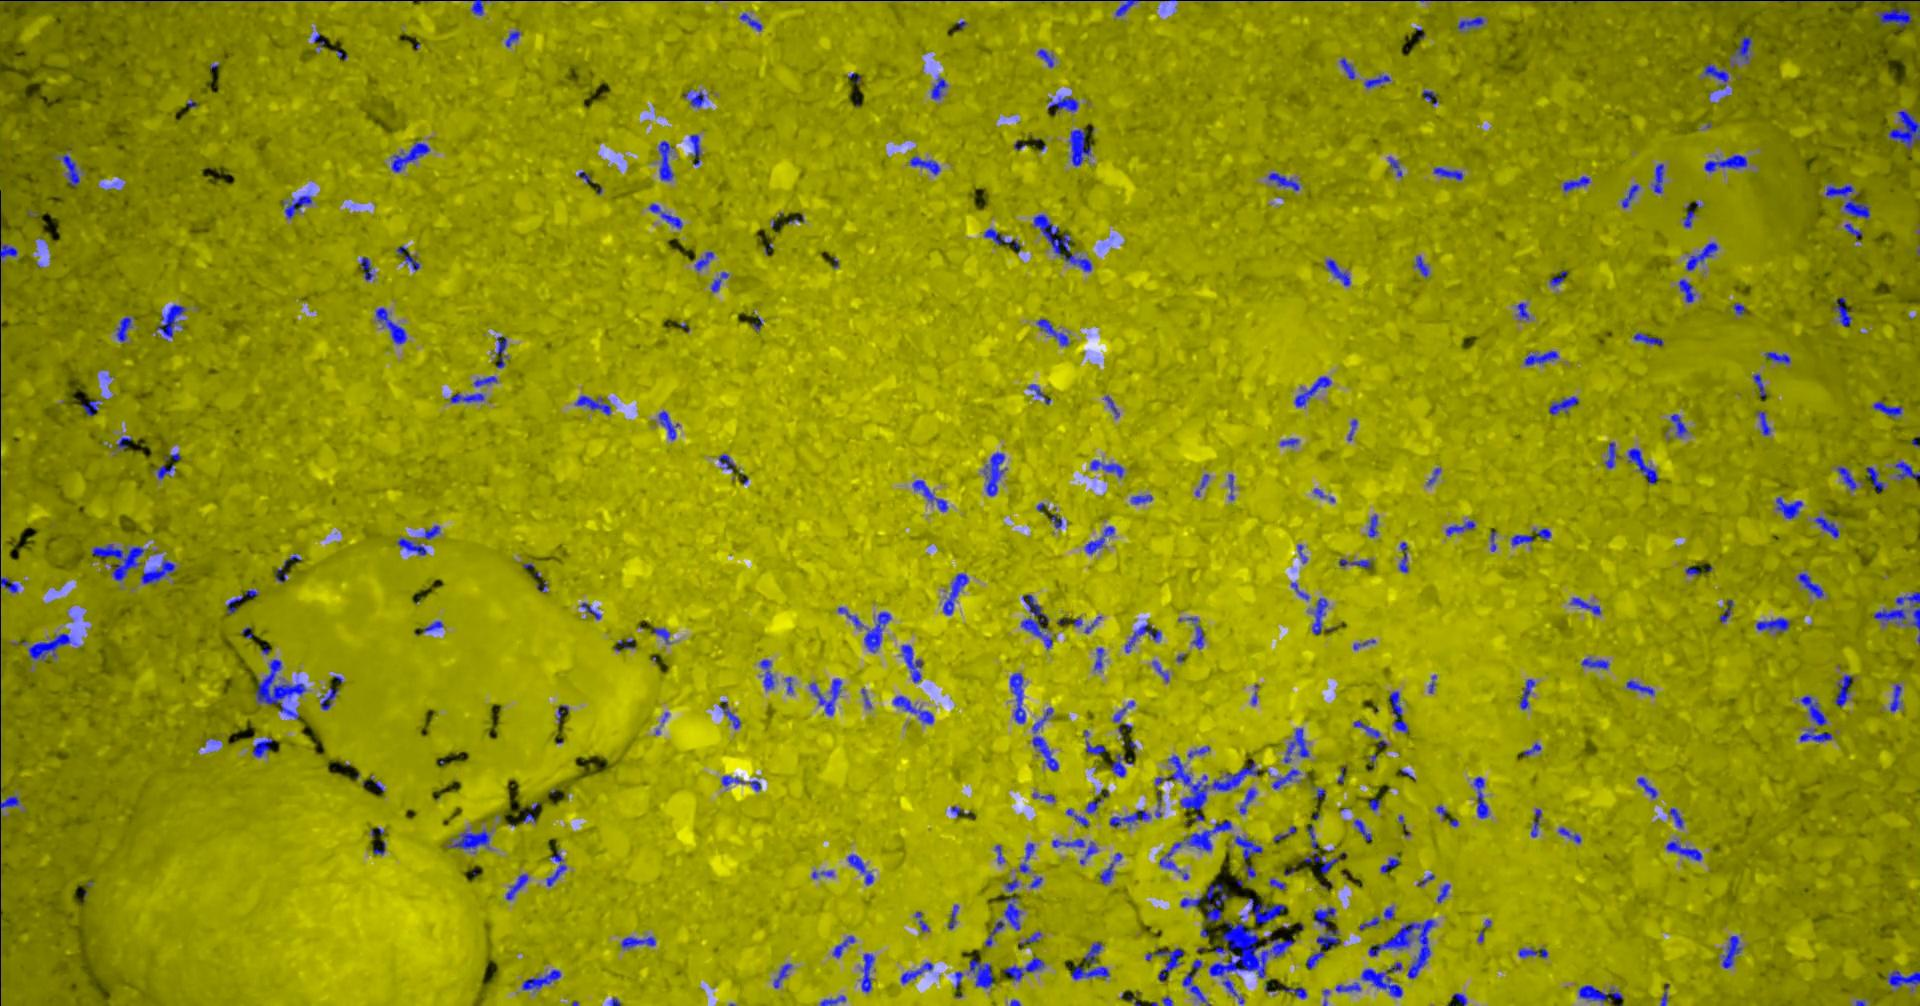ant: (1158, 821, 1230, 879), (1032, 213, 1091, 271), (254, 659, 305, 719), (1873, 591, 1919, 643), (1305, 907, 1338, 969), (1303, 826, 1346, 873), (1180, 882, 1229, 922), (91, 542, 143, 580), (984, 895, 1020, 946), (1020, 593, 1051, 648), (1031, 708, 1058, 770), (1825, 184, 1869, 218), (1360, 962, 1402, 997), (1070, 941, 1109, 979), (28, 633, 75, 661), (1145, 948, 1183, 981), (891, 695, 933, 723), (809, 678, 841, 715), (1888, 111, 1919, 149), (391, 141, 429, 171), (375, 307, 406, 343), (912, 479, 947, 511), (1294, 376, 1331, 406), (1627, 447, 1657, 483), (863, 611, 890, 652), (156, 304, 185, 340), (1124, 622, 1161, 652), (982, 452, 1006, 495), (942, 573, 968, 614), (1247, 897, 1285, 923), (1182, 958, 1205, 1002), (1003, 956, 1043, 981), (1283, 727, 1308, 763), (140, 558, 175, 583), (1685, 243, 1717, 271), (1036, 318, 1068, 345), (1352, 720, 1387, 746), (1051, 838, 1097, 857), (983, 227, 1018, 251), (648, 203, 682, 227), (1084, 525, 1114, 553), (1801, 695, 1826, 727), (521, 969, 560, 989), (1010, 672, 1025, 723), (1389, 691, 1408, 732), (546, 848, 566, 887), (847, 854, 872, 884), (1578, 984, 1622, 1002), (450, 829, 489, 848), (1069, 130, 1090, 166), (1310, 597, 1331, 634), (1665, 840, 1702, 860), (1704, 154, 1746, 171), (281, 194, 311, 218), (1873, 8, 1911, 27), (902, 644, 921, 682), (574, 395, 610, 415), (969, 959, 993, 988), (1098, 852, 1121, 883), (1109, 809, 1150, 826), (900, 962, 932, 983), (1324, 258, 1350, 285), (1797, 572, 1823, 597), (1234, 835, 1262, 859), (1721, 935, 1741, 968), (1886, 969, 1919, 989), (1473, 776, 1488, 818), (658, 410, 679, 439), (1090, 459, 1123, 478), (721, 775, 759, 791), (658, 140, 673, 180), (1836, 466, 1862, 490), (1775, 495, 1802, 518), (60, 154, 79, 185), (1267, 171, 1299, 191), (1834, 674, 1851, 708), (909, 155, 940, 174), (1832, 296, 1851, 326), (1222, 979, 1244, 1005), (719, 701, 740, 728), (505, 873, 527, 899), (1731, 36, 1751, 64), (1271, 768, 1299, 789), (837, 606, 862, 627), (1083, 729, 1105, 754), (1548, 396, 1578, 414), (1186, 617, 1204, 648), (1109, 753, 1131, 776), (1813, 516, 1837, 537), (396, 537, 425, 555), (1570, 597, 1600, 614), (861, 953, 874, 992), (1755, 617, 1790, 631), (832, 935, 855, 956), (1865, 466, 1884, 492), (1524, 351, 1558, 365), (1238, 788, 1256, 814), (1112, 700, 1134, 721), (1636, 776, 1657, 798), (1027, 384, 1050, 404), (1872, 401, 1902, 417), (1445, 520, 1476, 535), (1519, 678, 1534, 709), (1018, 842, 1034, 873), (116, 316, 135, 340), (1703, 64, 1728, 81), (773, 963, 791, 988), (759, 659, 775, 688), (1625, 680, 1655, 695), (1622, 183, 1639, 207), (1677, 278, 1695, 302), (1895, 461, 1919, 479), (1065, 808, 1090, 826), (1048, 97, 1078, 111), (1562, 175, 1590, 191), (1632, 332, 1662, 345), (251, 737, 272, 757), (739, 11, 761, 30), (1432, 166, 1462, 180), (1670, 413, 1688, 436), (620, 936, 655, 948), (1799, 728, 1831, 741), (0, 234, 17, 258), (1363, 74, 1390, 88), (1651, 163, 1663, 193), (494, 337, 507, 367), (1352, 819, 1371, 840), (682, 89, 703, 107), (320, 687, 338, 709), (1018, 931, 1040, 949), (1115, 0, 1138, 17), (1557, 827, 1580, 843), (1457, 17, 1483, 30), (1580, 657, 1609, 669), (710, 271, 728, 291), (1338, 57, 1355, 79), (930, 77, 946, 99), (1152, 661, 1168, 682), (1272, 826, 1295, 841), (695, 251, 712, 271), (0, 795, 20, 812), (1103, 395, 1119, 417), (690, 133, 700, 165), (1764, 351, 1789, 363), (1604, 442, 1617, 467), (359, 257, 373, 279), (1756, 412, 1770, 434), (1719, 600, 1733, 622), (1890, 683, 1901, 711), (1530, 808, 1542, 836), (1844, 224, 1862, 241), (81, 399, 99, 417), (226, 594, 243, 614), (580, 602, 599, 619), (1398, 541, 1408, 572), (1752, 373, 1765, 398), (1281, 986, 1305, 998), (450, 392, 484, 401), (1357, 916, 1379, 930), (717, 453, 734, 471), (1338, 558, 1371, 567), (1037, 48, 1053, 67), (404, 251, 419, 271), (1380, 857, 1399, 873), (1388, 156, 1402, 177), (1415, 255, 1429, 276), (1669, 807, 1683, 827), (914, 911, 928, 931), (1683, 203, 1694, 227), (472, 375, 497, 386), (1187, 746, 1209, 758), (471, 0, 489, 15), (1549, 271, 1567, 286), (0, 577, 18, 592), (651, 627, 669, 643), (1084, 798, 1102, 813), (156, 464, 175, 478), (1436, 883, 1450, 902), (1511, 533, 1534, 545), (1517, 948, 1547, 956), (422, 620, 442, 633), (1335, 982, 1360, 992), (819, 995, 844, 1005), (422, 525, 439, 539), (947, 904, 957, 929), (613, 639, 634, 650), (505, 30, 519, 47), (1523, 742, 1540, 754), (1130, 494, 1152, 504), (1531, 528, 1550, 540), (1095, 647, 1103, 671), (1422, 90, 1437, 104), (1368, 514, 1377, 537), (116, 436, 131, 448), (1032, 793, 1054, 801), (1516, 302, 1528, 319), (1269, 878, 1285, 889), (1004, 878, 1018, 890), (1451, 992, 1465, 1005), (1154, 790, 1161, 817), (811, 870, 833, 878), (1368, 798, 1380, 810), (276, 567, 286, 582), (1383, 904, 1393, 920), (1732, 302, 1745, 314), (1243, 865, 1255, 878)
